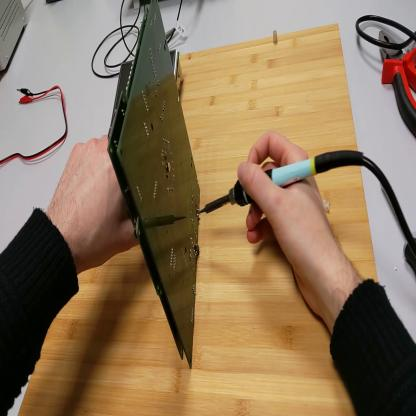hand: (239, 135, 336, 312), (47, 133, 137, 274)
low voltage board: (108, 1, 201, 369)
oscilloscope probe tip: (167, 27, 178, 41)
pliers: (381, 30, 415, 138)
power supply: (1, 2, 30, 76)
screwdriver-: (405, 240, 415, 274)
welder probe tip: (195, 149, 361, 218)
working area: (19, 24, 377, 414)
